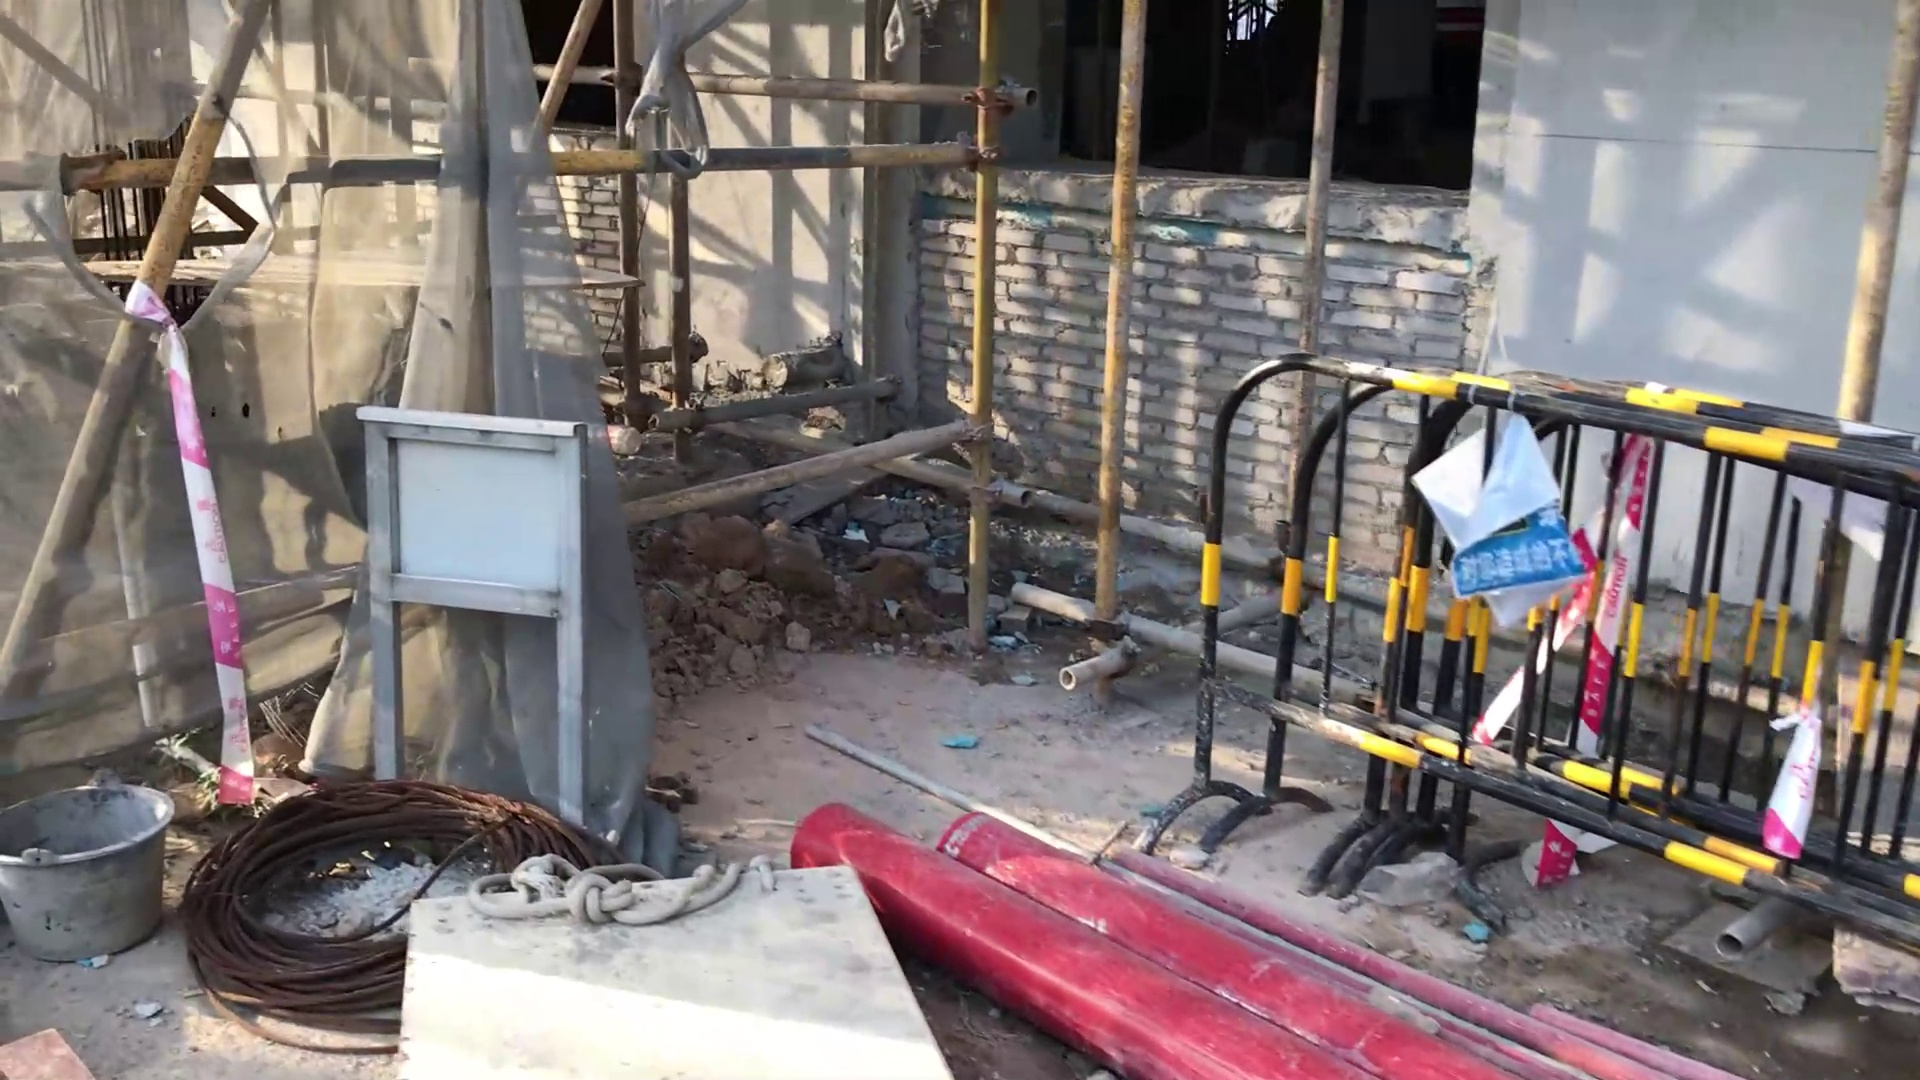fence: (1127, 345, 1920, 949)
